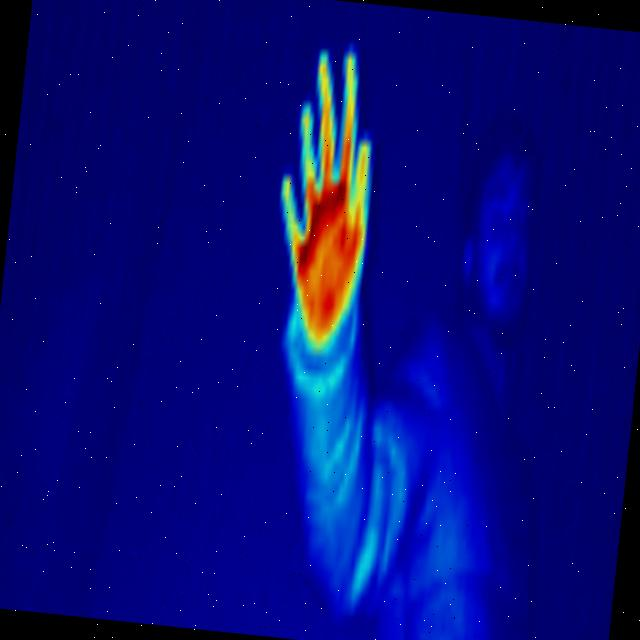hand: (239, 21, 403, 388)
